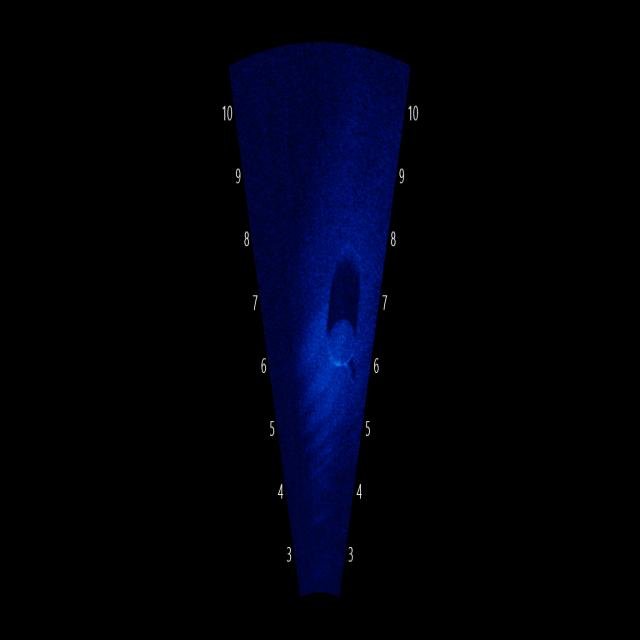circle: (316, 302, 366, 396)
